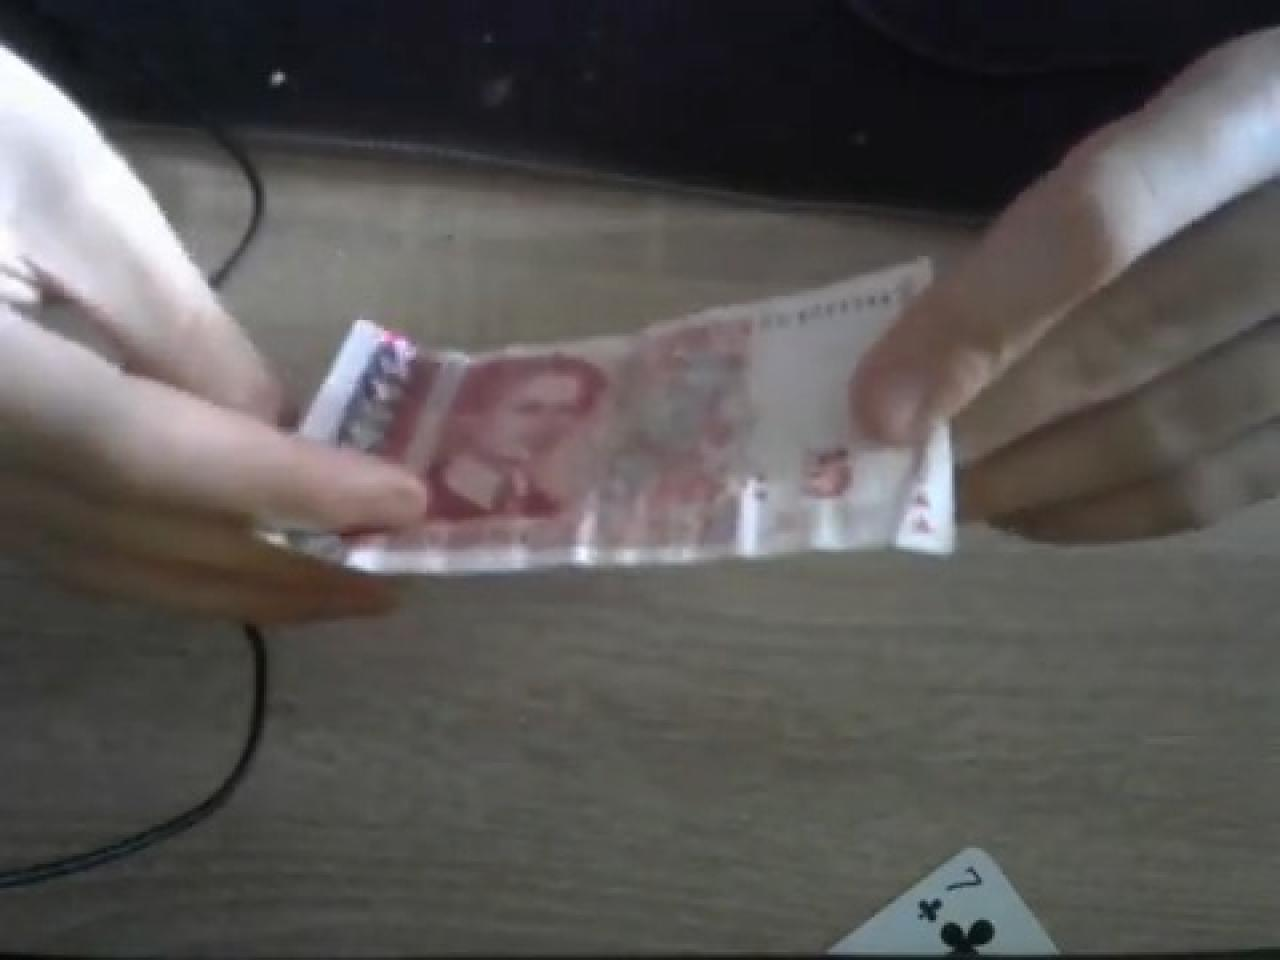5leva: (339, 264, 931, 571)
